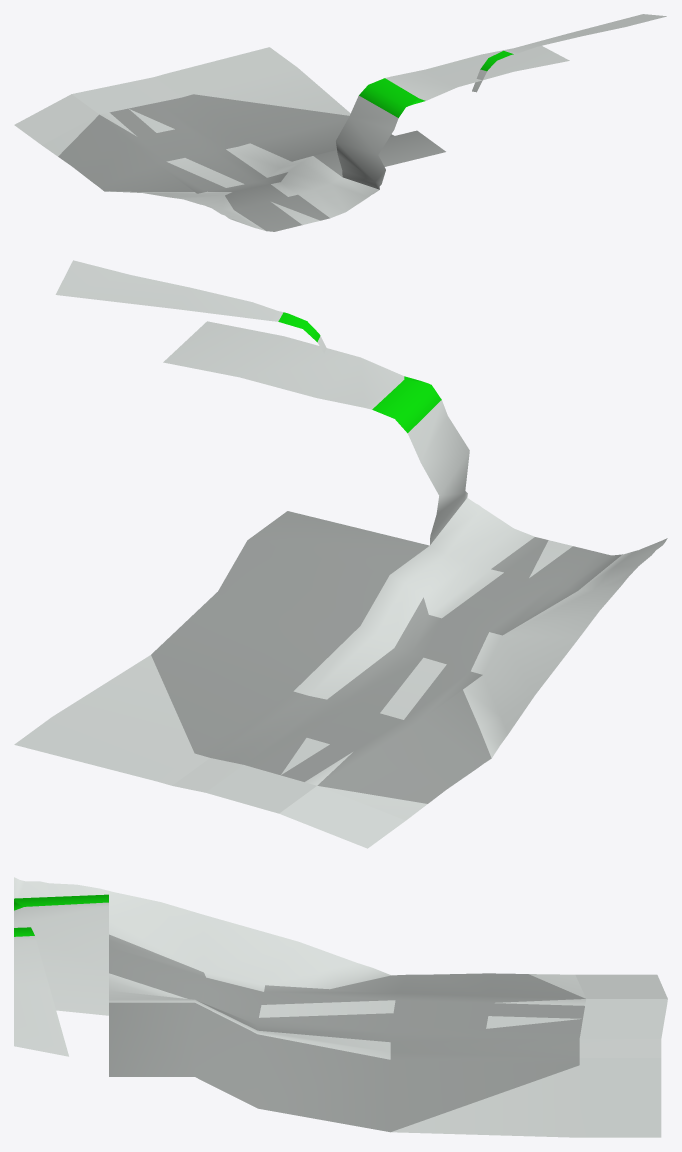
3 views of the same model, one above another, from view 1: azimuth 30°, elevation 25°; view 2: azimuth 150°, elevation 25°; view 3: azimuth 270°, elevation 25° (orthographic). The views are drawn at different scales.
Parts seen in each view (by area): view 1: G:\FFXIV-MapTools\exports\f1f1\bg\ffxiv\fst_f1\fld\f1f1\bgpl (×7); view 2: G:\FFXIV-MapTools\exports\f1f1\bg\ffxiv\fst_f1\fld\f1f1\bgpl (×7); view 3: G:\FFXIV-MapTools\exports\f1f1\bg\ffxiv\fst_f1\fld\f1f1\bgpl (×5).
Part boxes in pixels (x1,y1,x2,y2): G:\FFXIV-MapTools\exports\f1f1\bg\ffxiv\fst_f1\fld\f1f1\bgpl (×7): (14, 14, 666, 231); G:\FFXIV-MapTools\exports\f1f1\bg\ffxiv\fst_f1\fld\f1f1\bgpl (×7): (14, 260, 667, 848); G:\FFXIV-MapTools\exports\f1f1\bg\ffxiv\fst_f1\fld\f1f1\bgpl (×5): (14, 877, 667, 1137).
Size of the model in its own units: 61.98 by 22.5 by 55.09.
